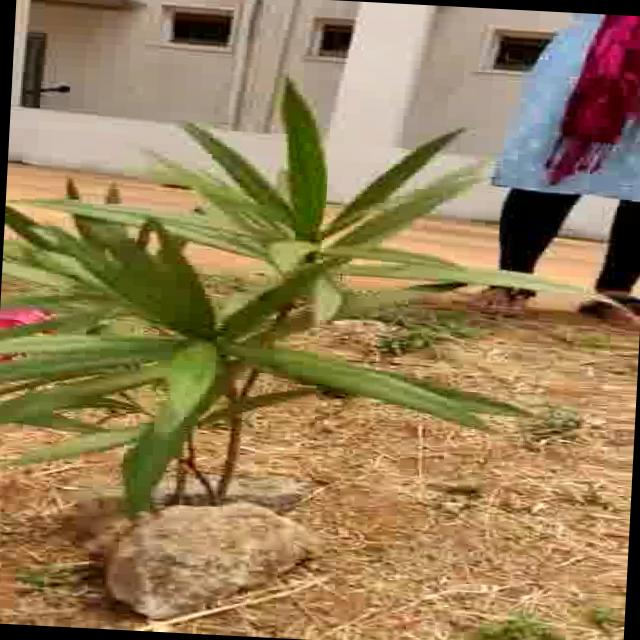OLEANDER: (0, 65, 537, 520)
